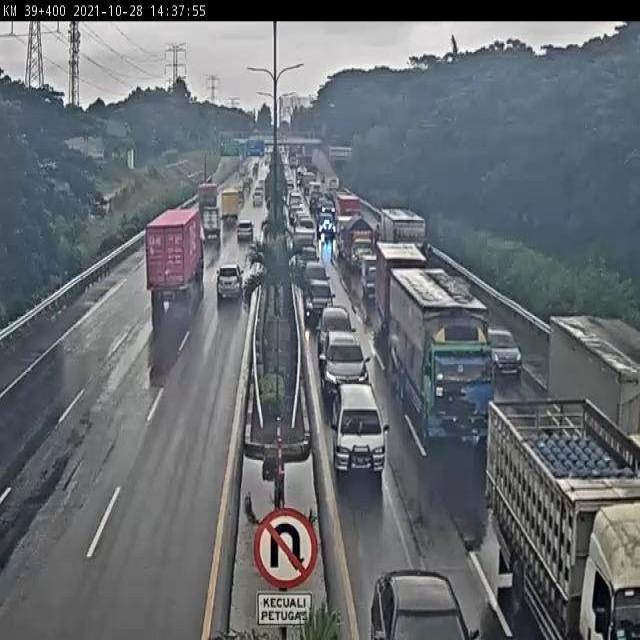car: (482, 316, 521, 373), (200, 208, 222, 240)
truck-l-: (488, 393, 640, 640), (390, 267, 496, 445)
truck-s-: (219, 191, 239, 229)
truck-xl-: (145, 212, 206, 304)
